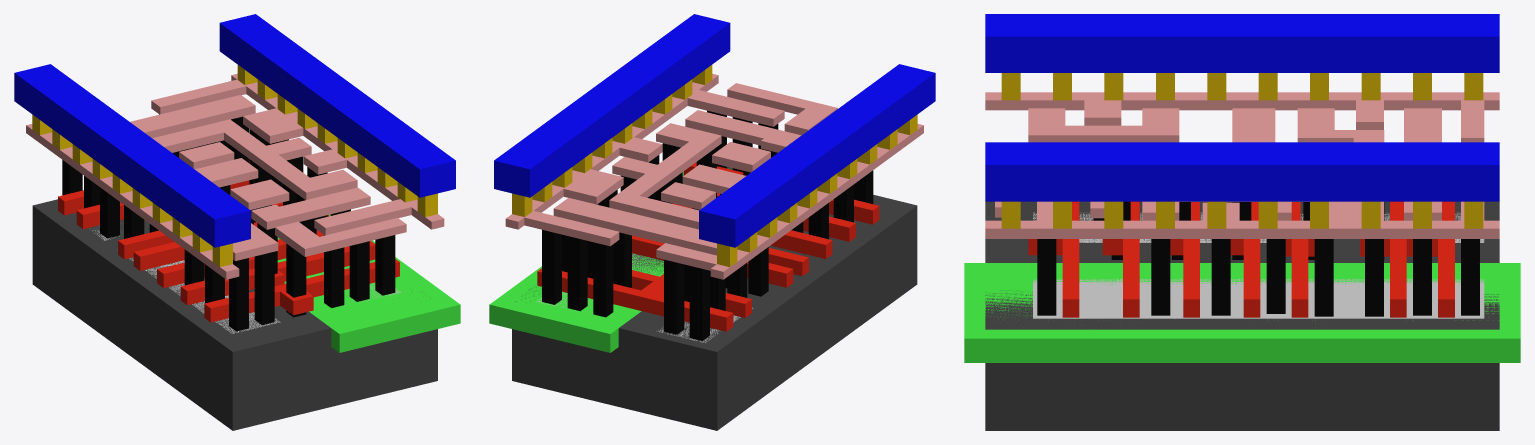
The model's file is sky130_fd_sc_hd__o2111a_2.obj.
3 renders of one model, left to right at view 1: azimuth 30°, elevation 25°; view 2: azimuth 150°, elevation 25°; view 3: azimuth 270°, elevation 25°, orthographic. The views are drawn at different scales.
Visible parts, largest first — view 1: subs, metal1, li, licon, poly, nwell, mcon, diff; view 2: subs, metal1, li, licon, poly, nwell, mcon; view 3: metal1, subs, li, nwell, licon, poly, mcon, tap, diff.
Part boxes in pixels (<box>): subs: <box>32,199,437,430</box>; metal1: <box>14,14,455,247</box>; li: <box>26,73,444,279</box>; licon: <box>62,114,395,331</box>; poly: <box>58,159,399,322</box>; nwell: <box>277,214,460,352</box>; mcon: <box>32,65,437,266</box>; diff: <box>92,228,280,333</box>; subs: <box>512,167,917,430</box>; metal1: <box>494,14,935,247</box>; li: <box>505,73,923,279</box>; licon: <box>542,110,873,340</box>; poly: <box>537,162,879,331</box>; nwell: <box>489,168,728,352</box>; mcon: <box>512,65,917,266</box>; metal1: <box>985,14,1499,201</box>; subs: <box>985,201,1499,430</box>; li: <box>985,92,1499,238</box>; nwell: <box>964,263,1520,362</box>; licon: <box>1037,201,1479,316</box>; poly: <box>1028,201,1454,317</box>; mcon: <box>1001,73,1483,228</box>; tap: <box>1033,278,1484,318</box>; diff: <box>1033,212,1484,242</box>.
Size of the model in its own units: 3.2 by 2.74 by 4.98.
